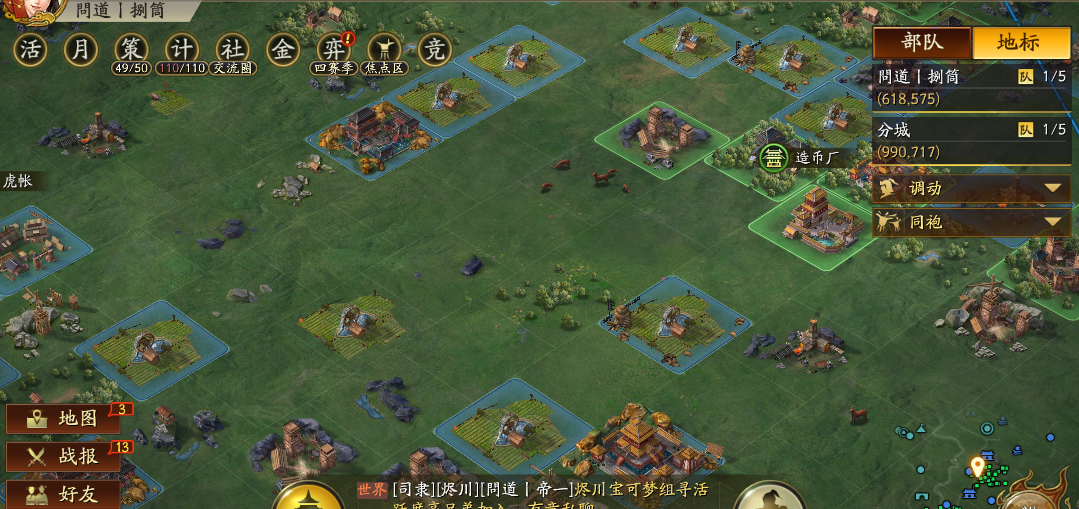sanzhan_plot_node: (428, 370, 600, 489), (554, 399, 732, 508), (105, 368, 254, 492), (274, 267, 440, 377), (719, 296, 884, 405), (73, 297, 231, 407), (216, 401, 386, 502), (596, 272, 752, 379), (916, 273, 1070, 379), (220, 139, 379, 231), (16, 95, 154, 189), (304, 97, 446, 185), (773, 79, 910, 170), (377, 60, 518, 147), (593, 98, 731, 184), (446, 21, 586, 102), (704, 116, 837, 201), (2, 272, 113, 369), (621, 5, 759, 83), (728, 21, 860, 102)
